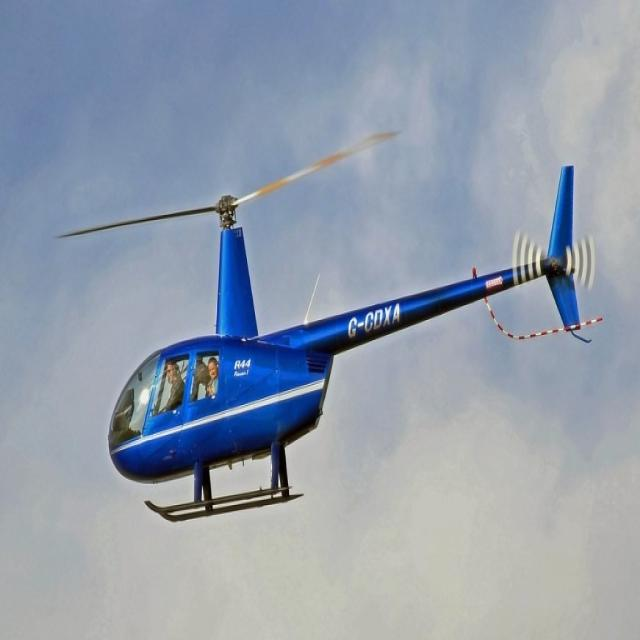CIV_HELO: (107, 164, 581, 525)
